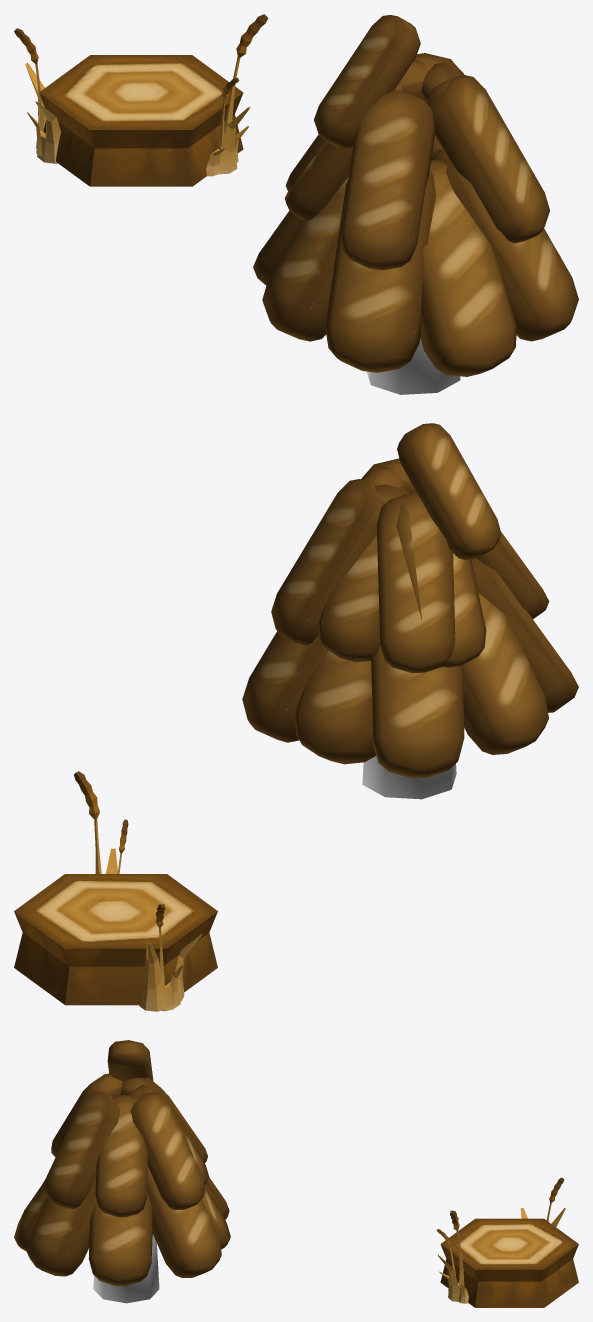
File: reworked_pine_tree.fbx
3 renders of one model, top to bottom at view 1: azimuth 30°, elevation 25°; view 2: azimuth 150°, elevation 25°; view 3: azimuth 270°, elevation 25°, orthographic. The views are drawn at different scales.
Parts seen in each view (by area): view 1: log, Cube, Cube.008, Cube.007, Cube.012, Cube.004, Cube.002, Cube.017, Cube.010, grass1, Cylinder, grass2 (+4 smaller); view 2: log, Cube.014, Cube.006, Cube.002, Cube.013, Cube.017, Cube.001, Cube.009, Cube.005, Cube.007, Cube.010, grass2 (+3 smaller); view 3: log, Cube.013, Cube.012, Cube.011, Cube.003, Cube.005, Cube.004, Cube.017, Cylinder, Cube.008, grass1, Cube (+5 smaller).
Boxes of the visible parts, <box> form: log: <box>39,55,243,186</box>; Cube: <box>420,159,516,376</box>; Cube.008: <box>340,90,435,270</box>; Cube.007: <box>325,171,436,372</box>; Cube.012: <box>427,75,549,243</box>; Cube.004: <box>433,149,578,341</box>; Cube.002: <box>262,177,348,341</box>; Cube.017: <box>314,15,420,148</box>; Cube.010: <box>284,81,406,220</box>; grass1: <box>206,14,268,176</box>; Cylinder: <box>367,338,460,394</box>; grass2: <box>14,28,60,163</box>; log: <box>14,874,217,1005</box>; Cube.014: <box>377,493,455,672</box>; Cube.006: <box>371,646,464,778</box>; Cube.002: <box>462,593,548,754</box>; Cube.013: <box>271,479,384,645</box>; Cube.017: <box>397,423,501,559</box>; Cube.001: <box>295,651,375,764</box>; Cube.009: <box>318,484,409,662</box>; Cube.005: <box>242,631,328,742</box>; Cube.007: <box>471,559,578,712</box>; Cube.010: <box>396,492,486,667</box>; grass2: <box>139,904,201,1011</box>; log: <box>440,1218,578,1307</box>; Cube.013: <box>130,1092,205,1210</box>; Cube.012: <box>44,1092,120,1208</box>; Cube.011: <box>95,1095,147,1217</box>; Cube.003: <box>88,1192,152,1286</box>; Cube.005: <box>147,1166,221,1277</box>; Cube.004: <box>27,1177,96,1276</box>; Cube.017: <box>107,1040,153,1081</box>; Cylinder: <box>93,1234,159,1303</box>; Cube.008: <box>51,1073,122,1157</box>; grass1: <box>436,1210,468,1303</box>; Cube: <box>14,1179,47,1251</box>.
Size of the model in its own units: 287 by 360 by 757.
